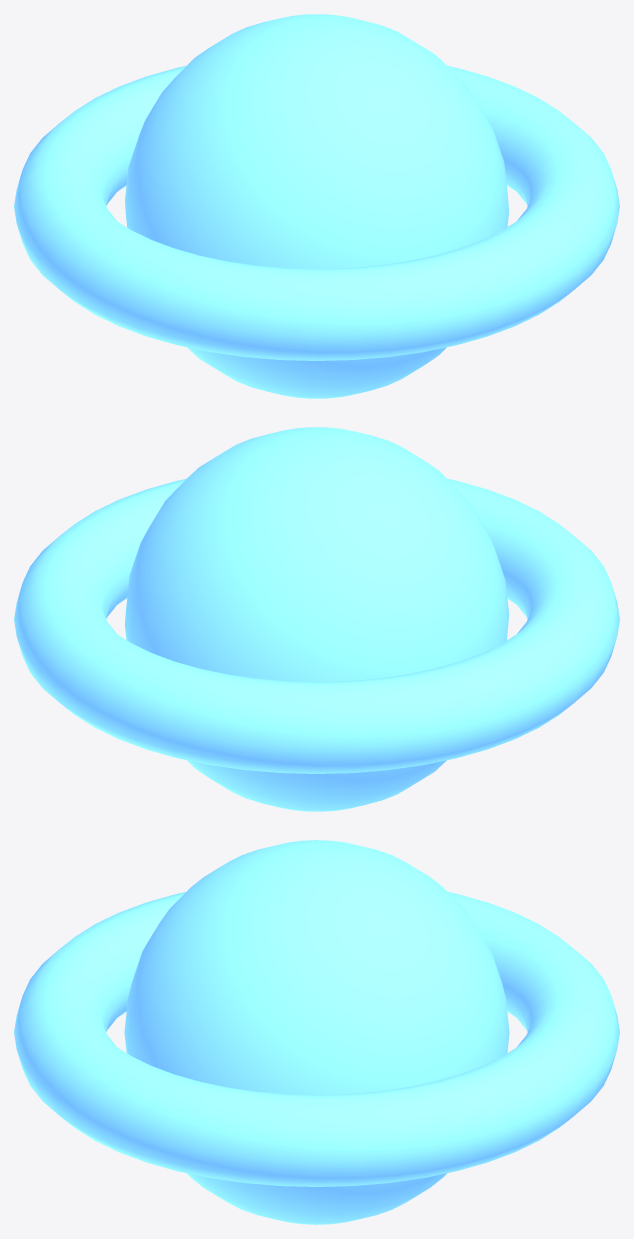
3 views of the same model, one above another, from view 1: azimuth 30°, elevation 25°; view 2: azimuth 150°, elevation 25°; view 3: azimuth 270°, elevation 25° (orthographic).
Parts seen in each view (by area): view 1: energy_core_particle_spark_trail_ring, particle_ring_trail_fake_orbit; view 2: energy_core_particle_spark_trail_ring, particle_ring_trail_fake_orbit; view 3: energy_core_particle_spark_trail_ring, particle_ring_trail_fake_orbit.
Part boxes in pixels (<box>): energy_core_particle_spark_trail_ring: <box>125,14,508,398</box>; particle_ring_trail_fake_orbit: <box>14,65,619,360</box>; energy_core_particle_spark_trail_ring: <box>125,427,508,811</box>; particle_ring_trail_fake_orbit: <box>14,478,619,773</box>; energy_core_particle_spark_trail_ring: <box>124,840,509,1224</box>; particle_ring_trail_fake_orbit: <box>14,892,619,1186</box>.
Bounding box in the file's own units: 1.89 × 1.2 × 1.89.
